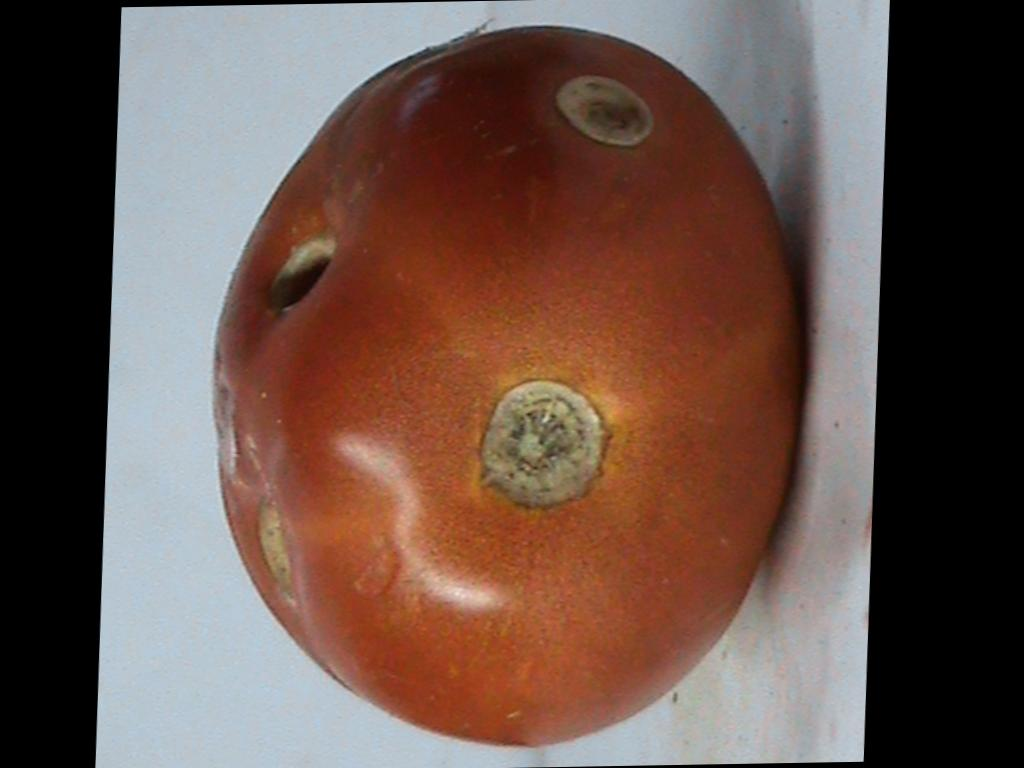surface_damage: (482, 380, 606, 505), (555, 76, 652, 145), (257, 500, 293, 599)
tomato: (214, 26, 798, 743)
